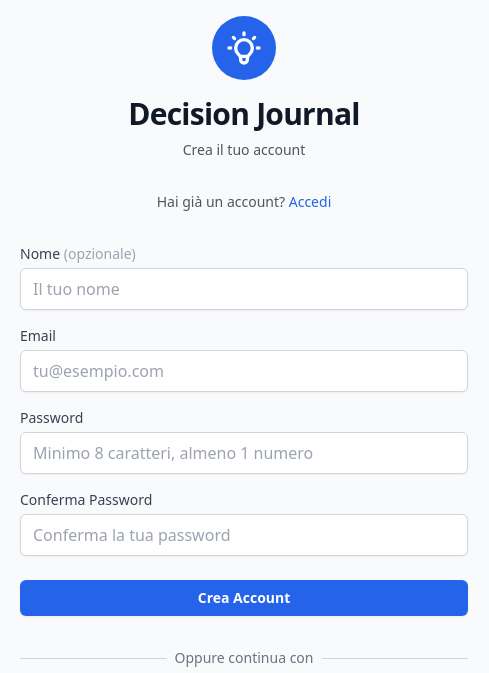
Test case: Signup Page › Form Validation › shows error when email is empty
This screenshot has width=489, height=673.
Expected: the button "Crea Account" is shown, [20,580,468,616]
# Only fill passwords, leave email empty
In the password field labelled "Password": (244, 453) [20,432,468,474], type "password123"
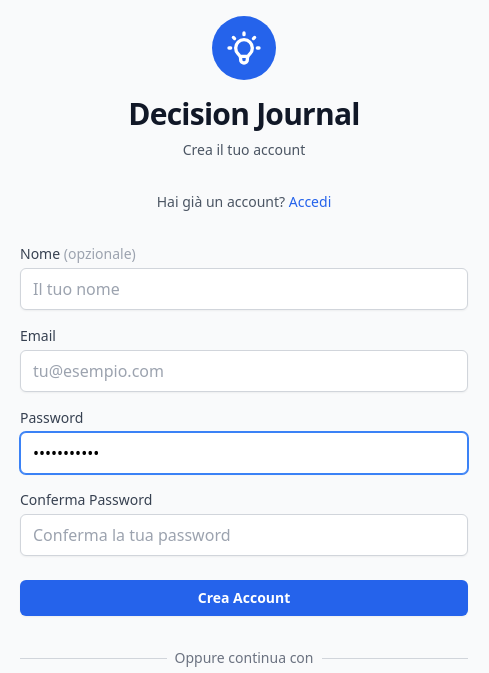
In the password field labelled "Conferma Password": (244, 535) [20,514,468,556], type "password123"
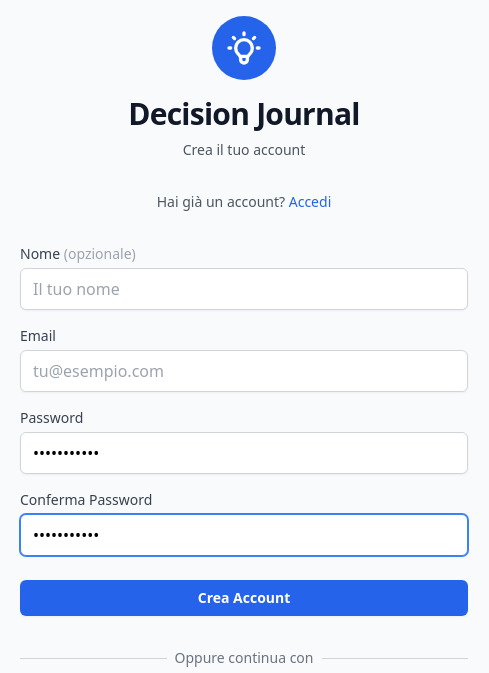
Click the button "Crea Account": (244, 598) [20,580,468,616]
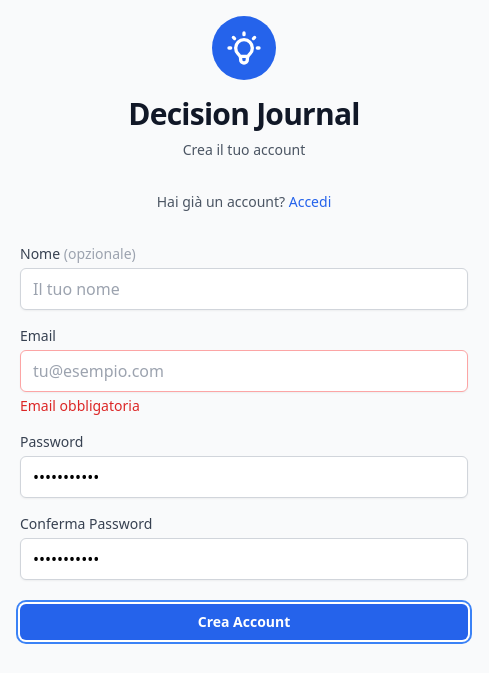
Expected: the text "Email obbligatoria" is shown, [20,396,140,415]
